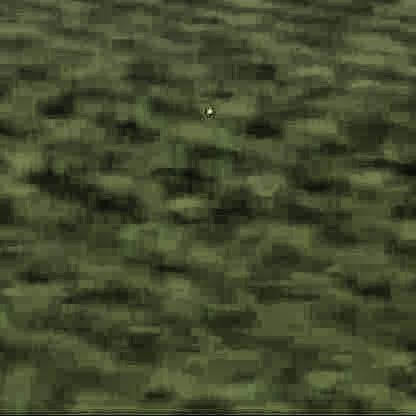golfball: (204, 105, 209, 110)
